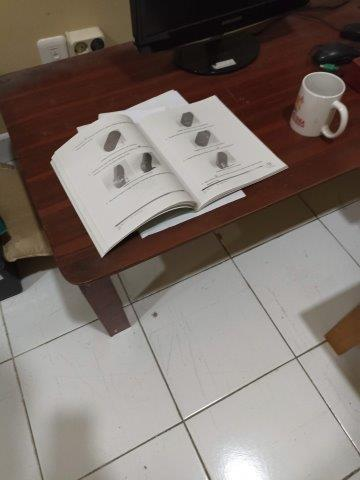kertas: (51, 90, 289, 257)
